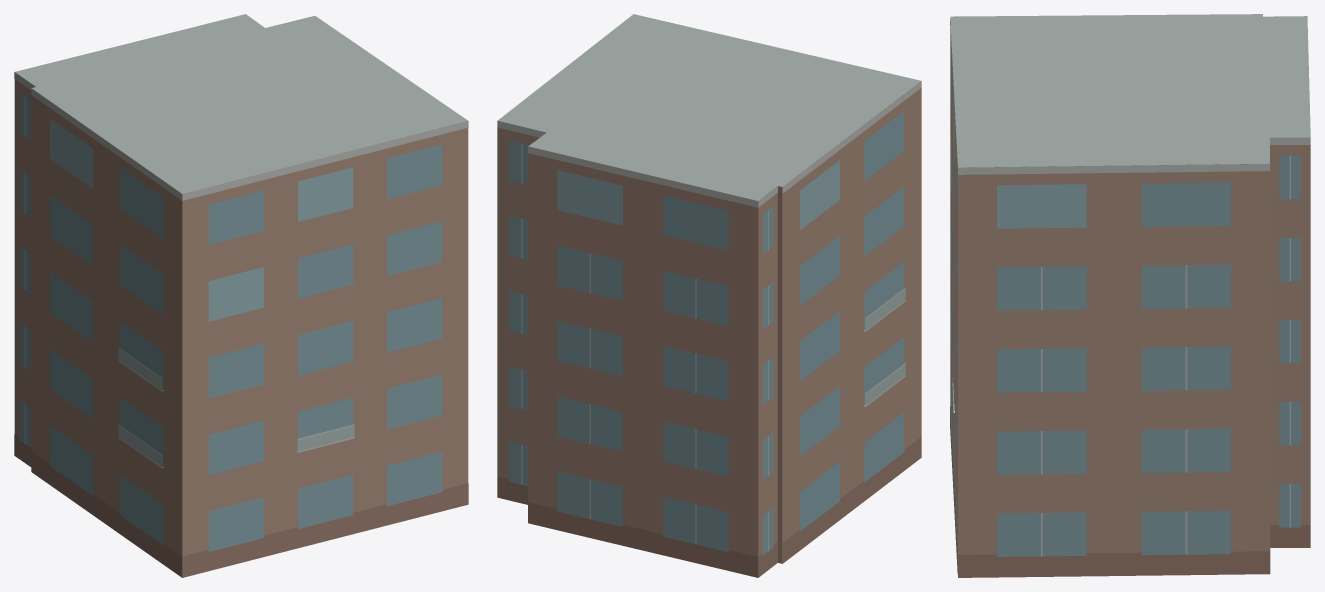
File: survey-upis-32841448.glb
3 renders of one model, left to right at view 1: azimuth 30°, elevation 25°; view 2: azimuth 150°, elevation 25°; view 3: azimuth 270°, elevation 25°, orthographic. The views are drawn at different scales.
Parts seen in each view (by area): view 1: survey-upis-32841448.tmp; view 2: survey-upis-32841448.tmp; view 3: survey-upis-32841448.tmp.
Part boxes in pixels (left/top/right/bottom): survey-upis-32841448.tmp: left=14, top=14, right=468, bottom=577; survey-upis-32841448.tmp: left=497, top=14, right=921, bottom=577; survey-upis-32841448.tmp: left=950, top=14, right=1310, bottom=577.
Bounding box in the file's own units: 10.96 × 13.65 × 10.88.
